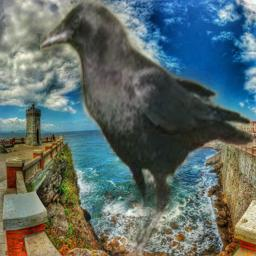Crow: (40, 0, 253, 256)
